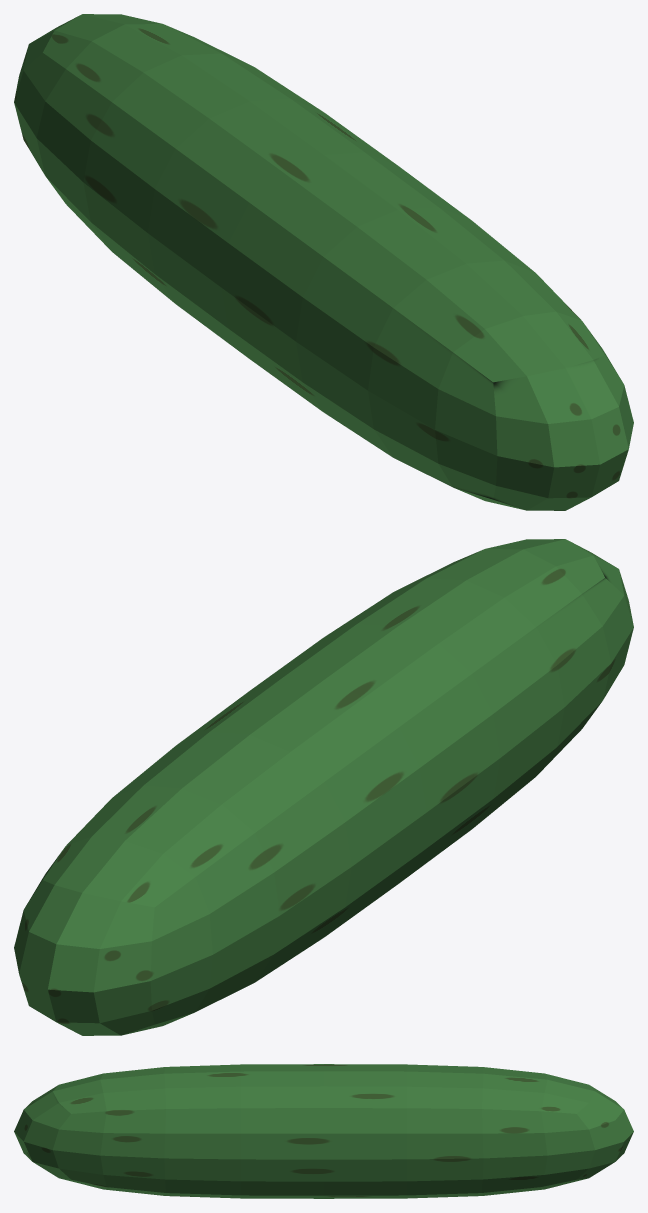
File: огурец.fbx
3 renders of one model, top to bottom at view 1: azimuth 30°, elevation 25°; view 2: azimuth 150°, elevation 25°; view 3: azimuth 270°, elevation 25°, orthographic. The views are drawn at different scales.
Parts seen in each view (by area): view 1: Куб; view 2: Куб; view 3: Куб.
Boxes of the visible parts, x1=… form: Куб: x1=14, y1=14, x2=633, y2=510; Куб: x1=14, y1=539, x2=633, y2=1035; Куб: x1=14, y1=1064, x2=633, y2=1198.
Size of the model in its own units: 107 by 107 by 500.
